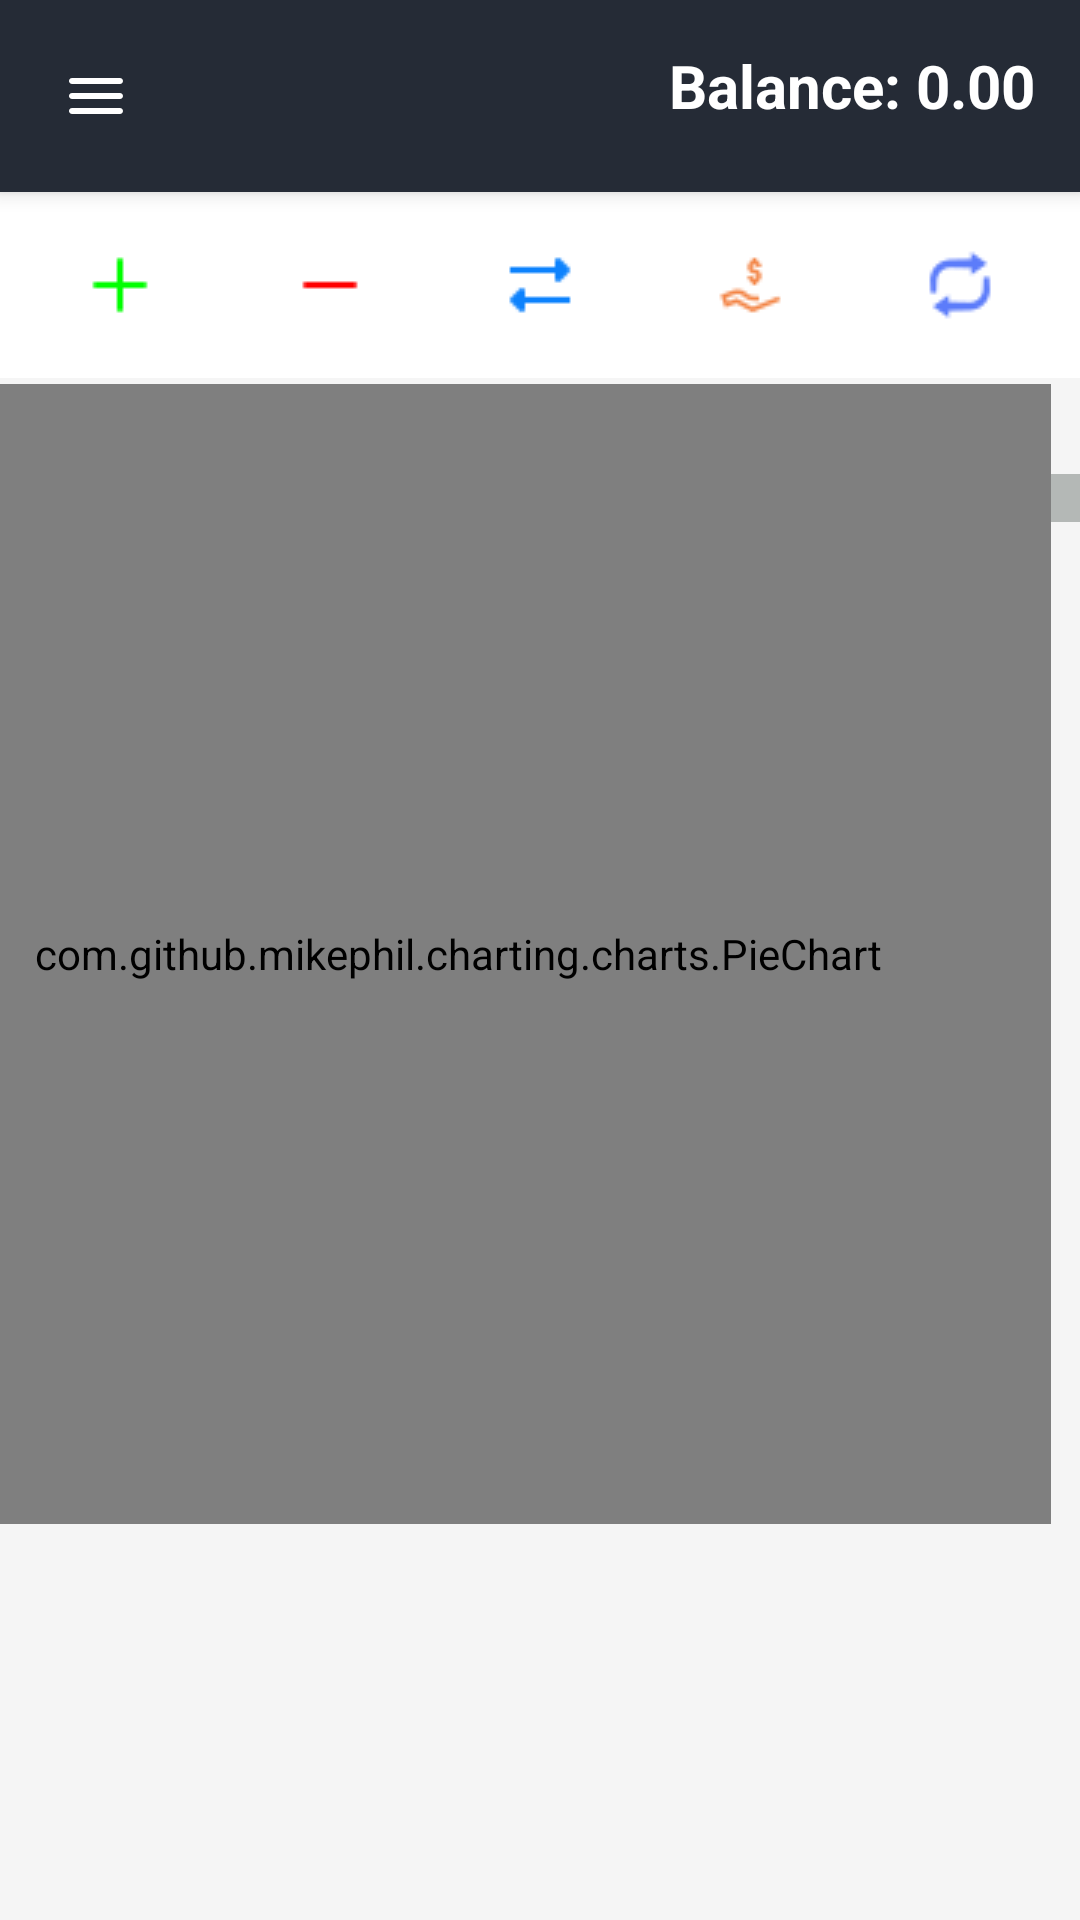

Icons on this 1080*1920 Android screen, each with its box as (x1, y1, x2, y2):
Add: (92, 257, 148, 313)
Drawer Menu: (69, 78, 123, 114)
Loan: (719, 257, 781, 313)
Refresh: (929, 252, 991, 318)
Transfer: (509, 257, 571, 313)
